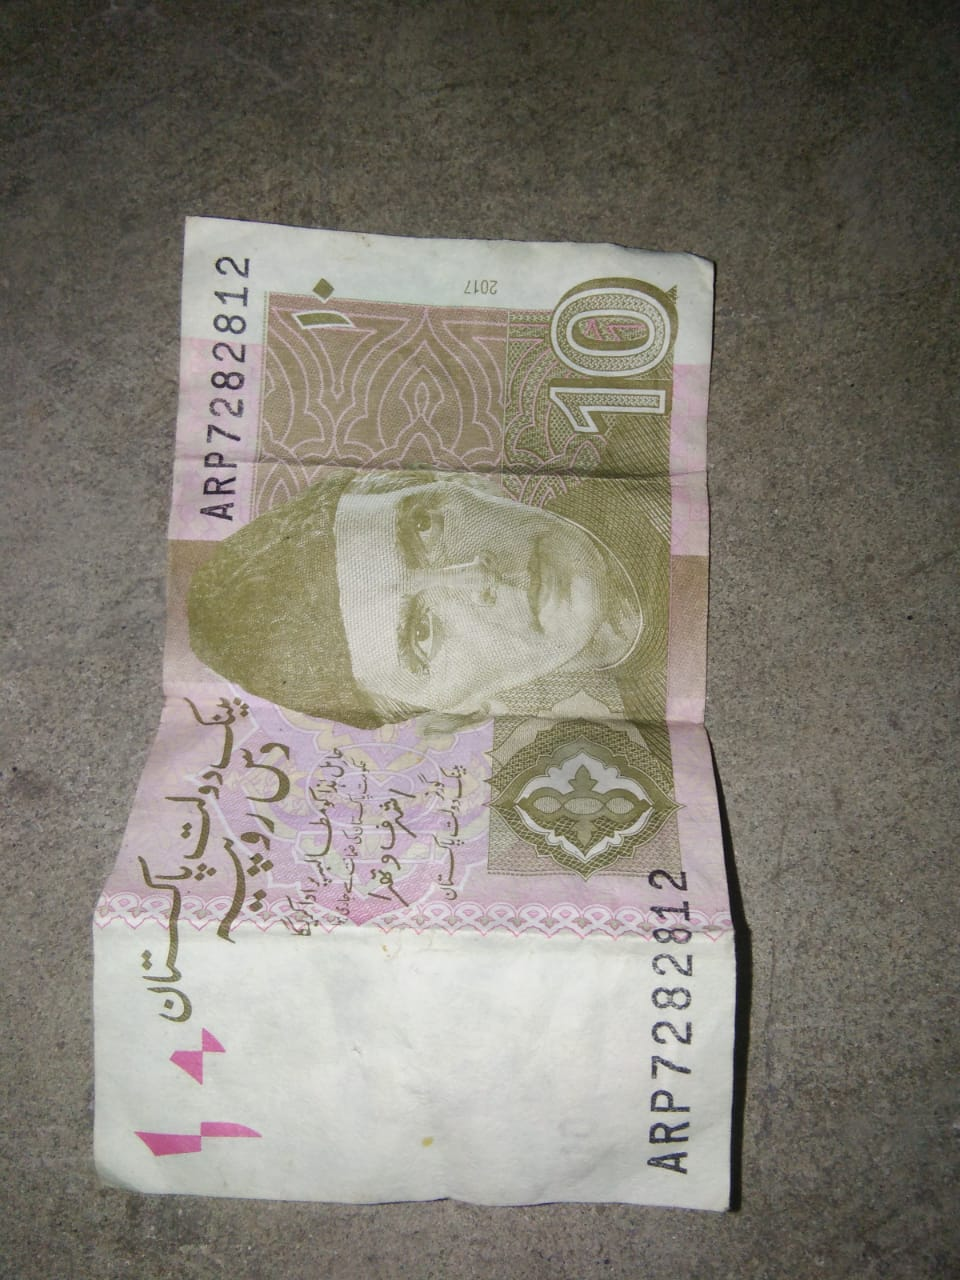10 rupee: (77, 172, 731, 1234)
